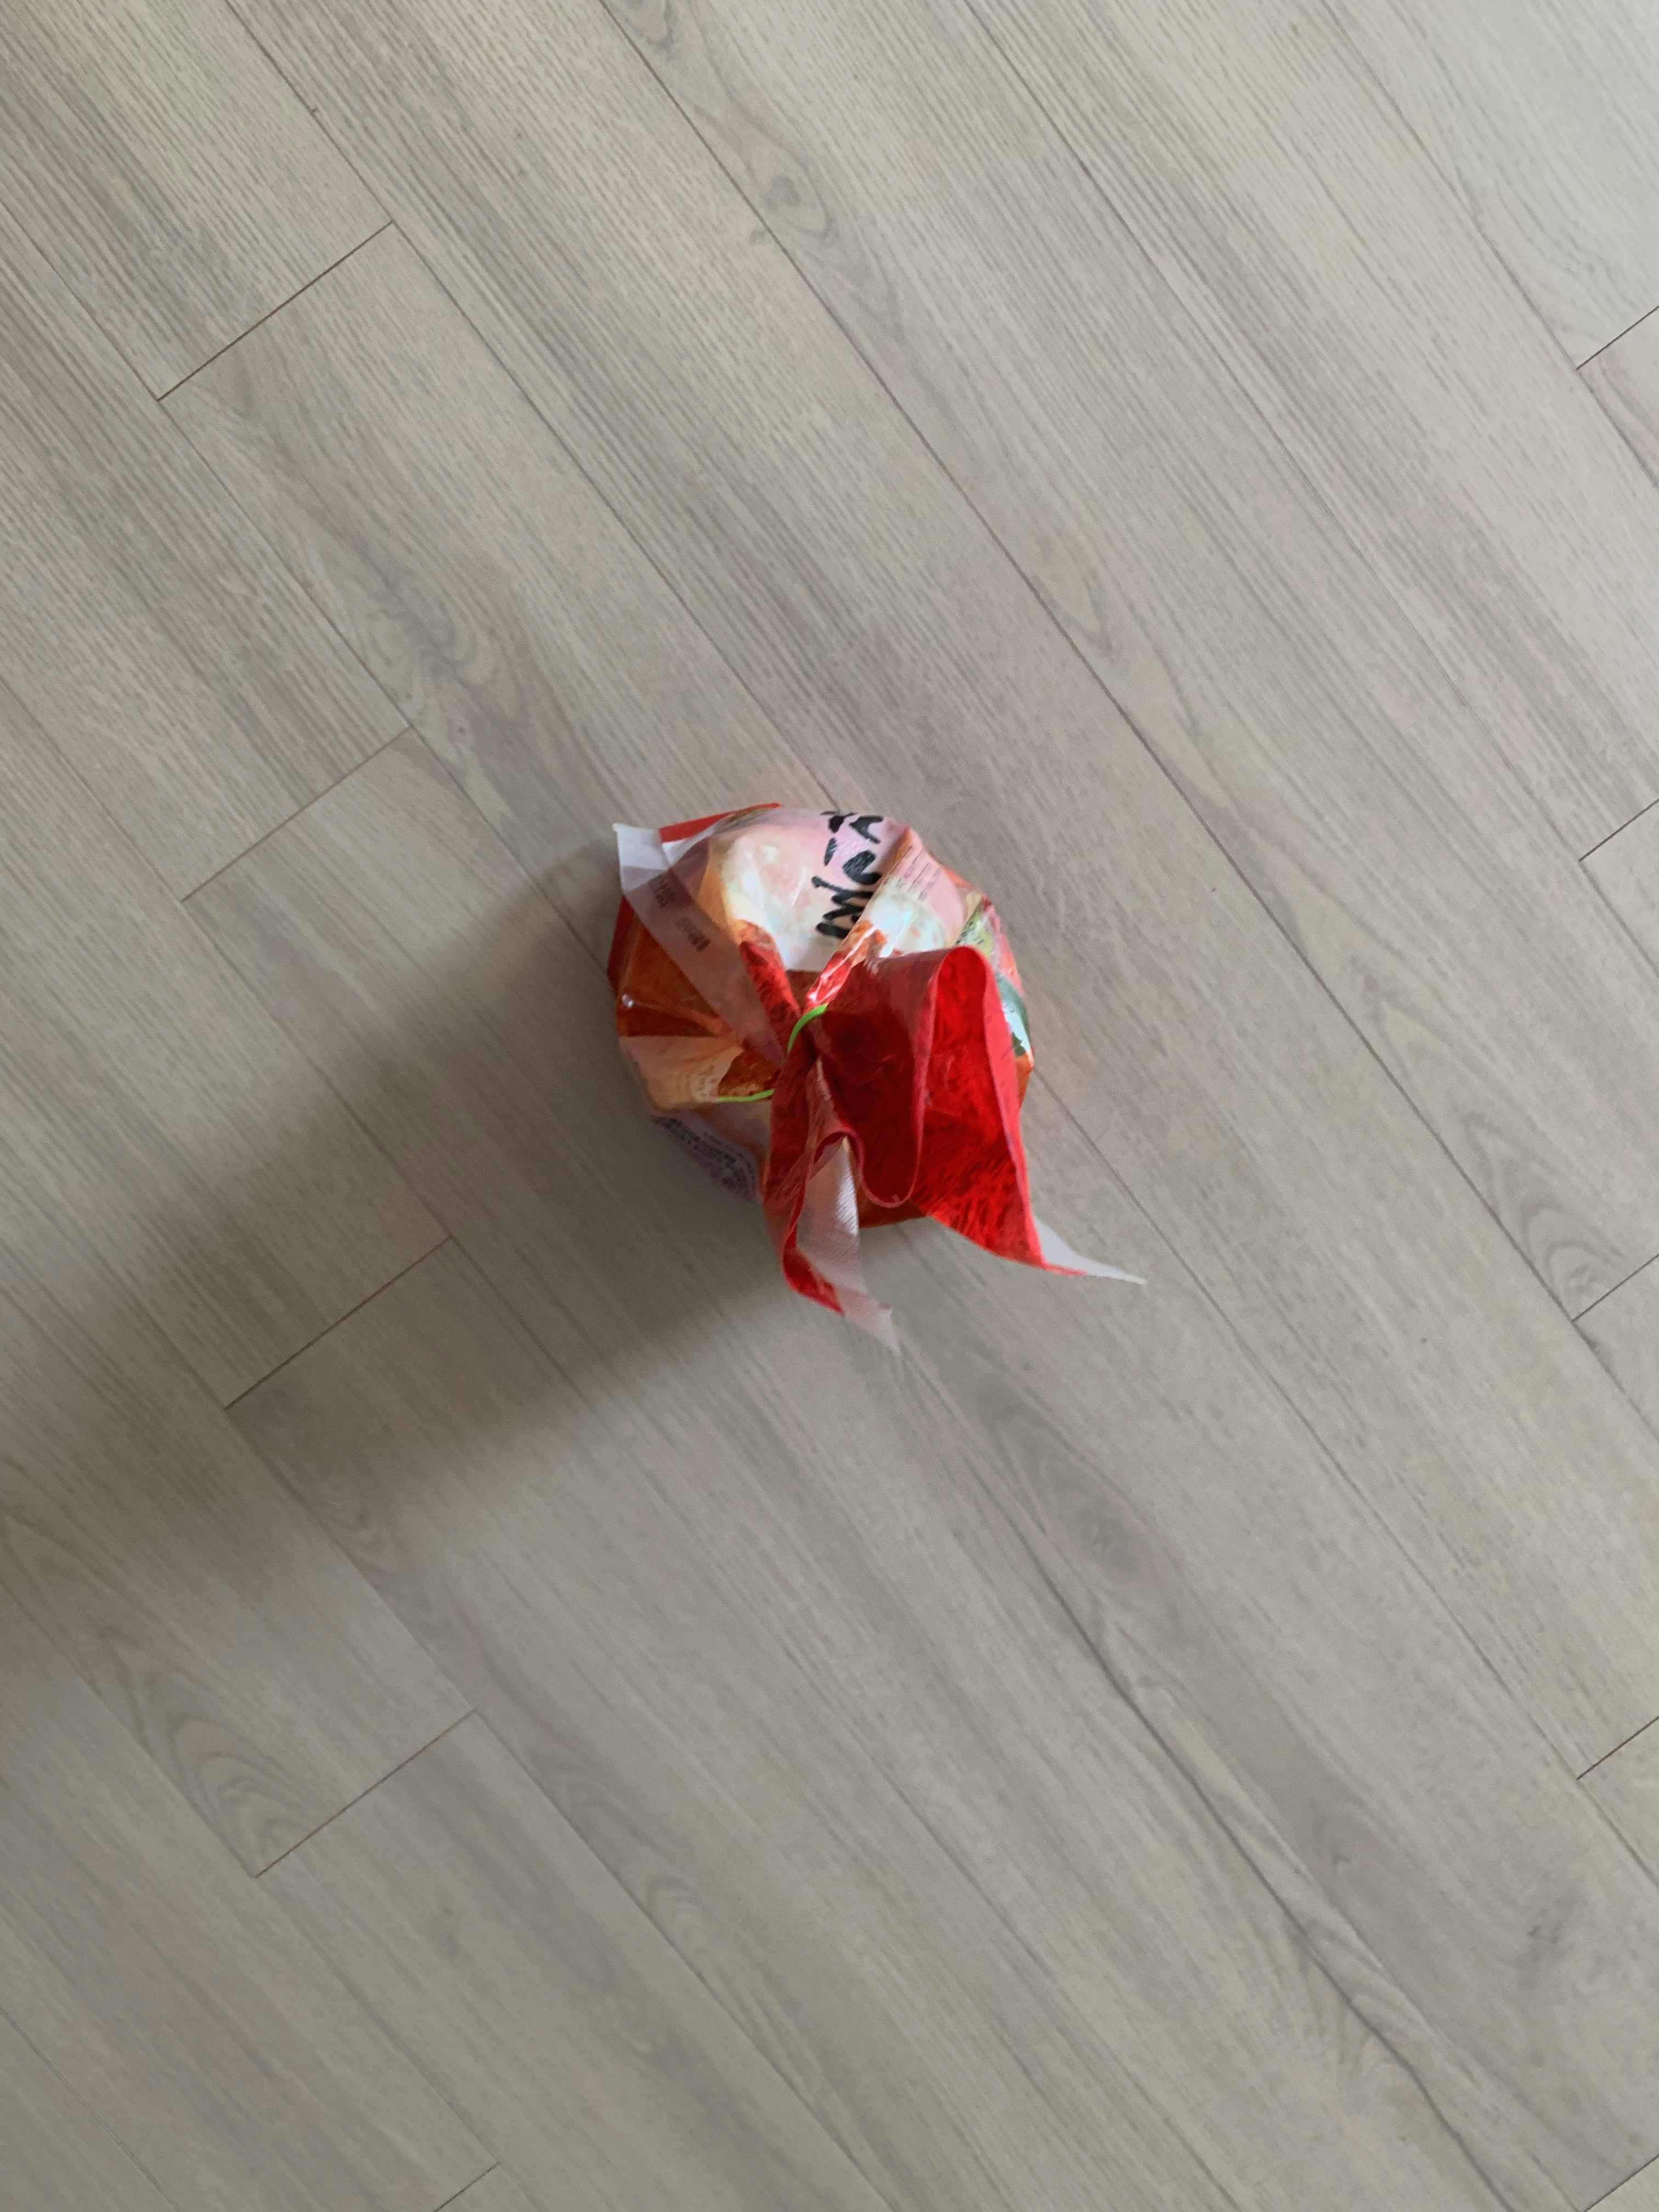kimchi: (606, 801, 1046, 1310)
